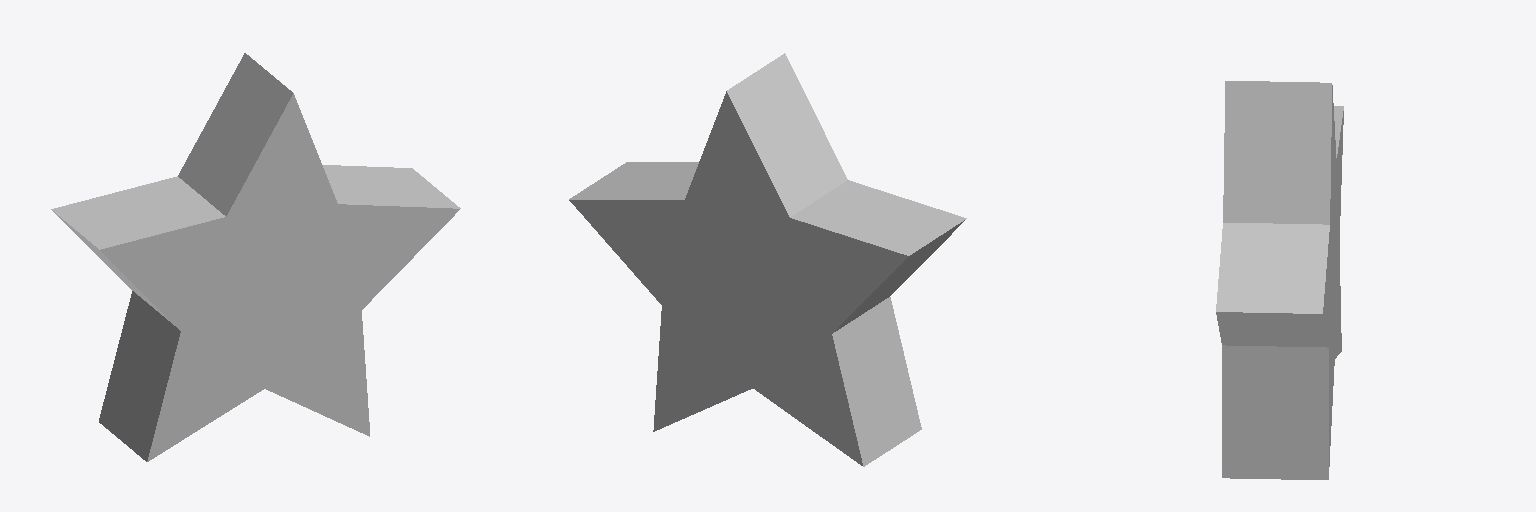
Rendered from star.obj.
3 views of the same model, side by side, from view 1: azimuth 30°, elevation 25°; view 2: azimuth 150°, elevation 25°; view 3: azimuth 270°, elevation 25° (orthographic).
Parts seen in each view (by area): view 1: star:Mesh; view 2: star:Mesh; view 3: star:Mesh.
Part boxes in pixels (x1,y1,x2,y2): star:Mesh: (51,53,460,461); star:Mesh: (569,53,966,466); star:Mesh: (1216,81,1343,479).
Size of the model in its own units: 1.96 by 1.9 by 0.6118.